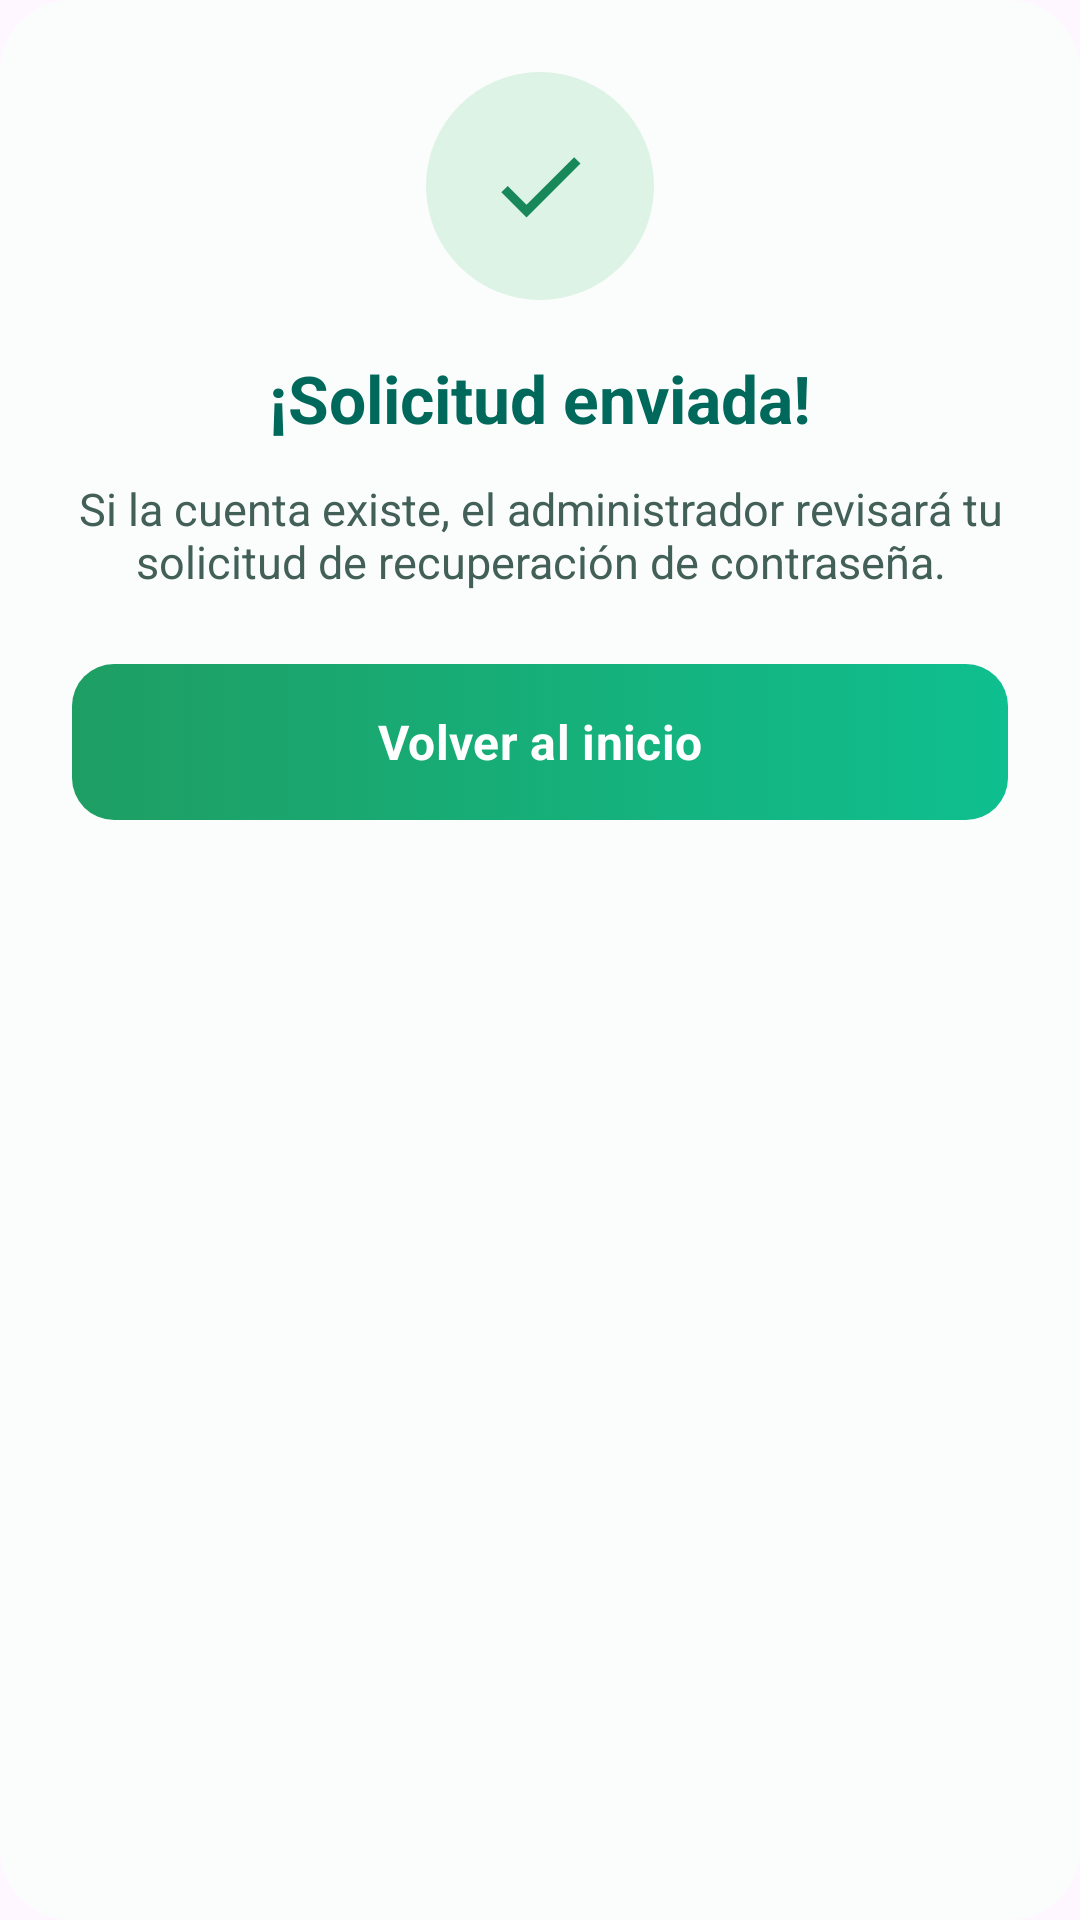

Icon bounding boxes for this 1080 x 1920 phone screenshot, format (x1, y1, x2, y2):
check: (426, 72, 654, 300)
